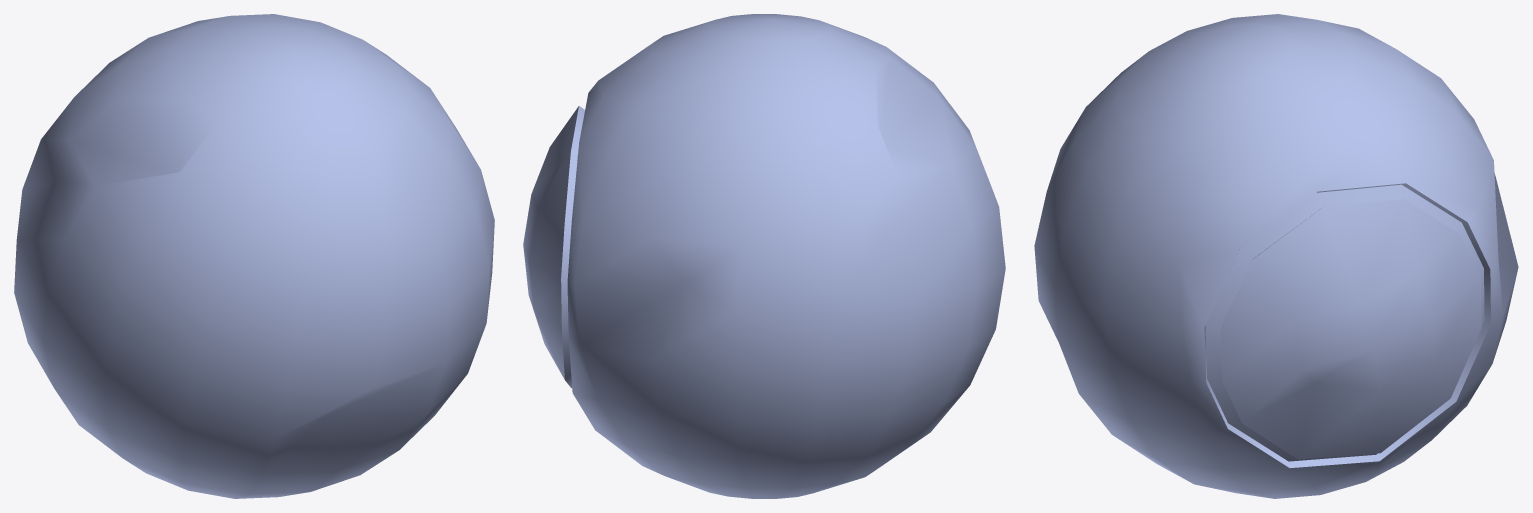
The model's file is EsferaRota1.fbx.
3 views of the same model, side by side, from view 1: azimuth 30°, elevation 25°; view 2: azimuth 150°, elevation 25°; view 3: azimuth 270°, elevation 25° (orthographic).
Parts seen in each view (by area): view 1: Esfera_Vehiculo; view 2: Esfera_Vehiculo; view 3: Esfera_Vehiculo.
Part boxes in pixels (x1,y1,x2,y2): Esfera_Vehiculo: (14, 14, 494, 498); Esfera_Vehiculo: (523, 14, 1005, 498); Esfera_Vehiculo: (1034, 14, 1518, 498).
Size of the model in its own units: 2.98 by 3.01 by 3.01.
